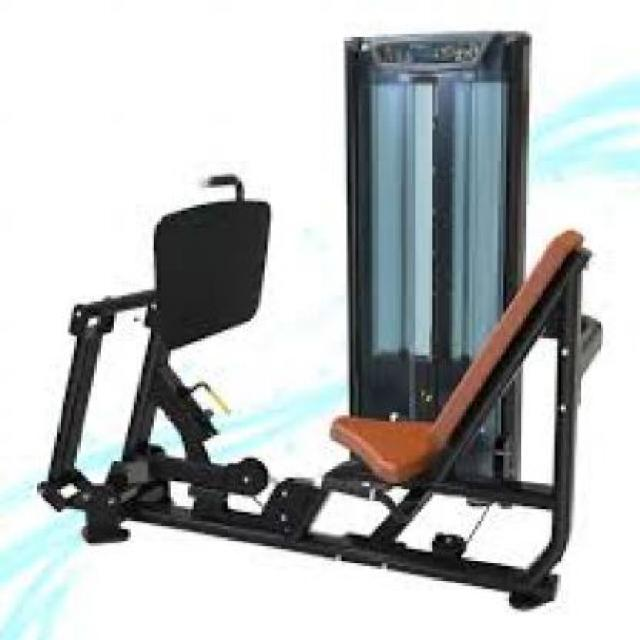leg press: (29, 17, 620, 614)
